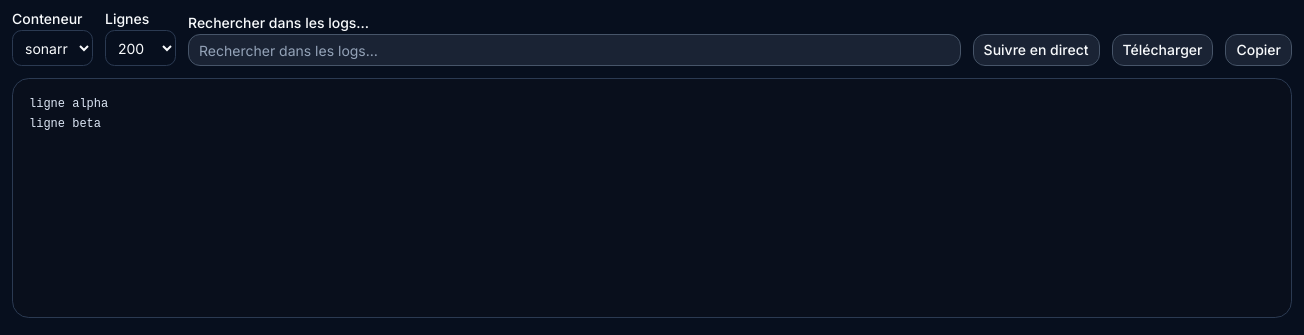
Test: AppLogsTab › filters displayed logs with the search field
Type "beta" into the field labelled "Rechercher dans les logs…". click: (574, 50)
box: [188,34,961,66]
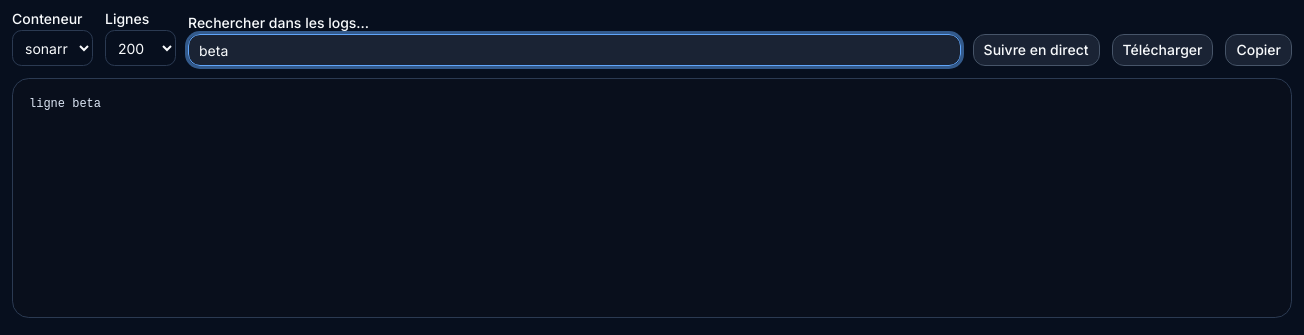
Check: the text "ligne alpha" is gone
